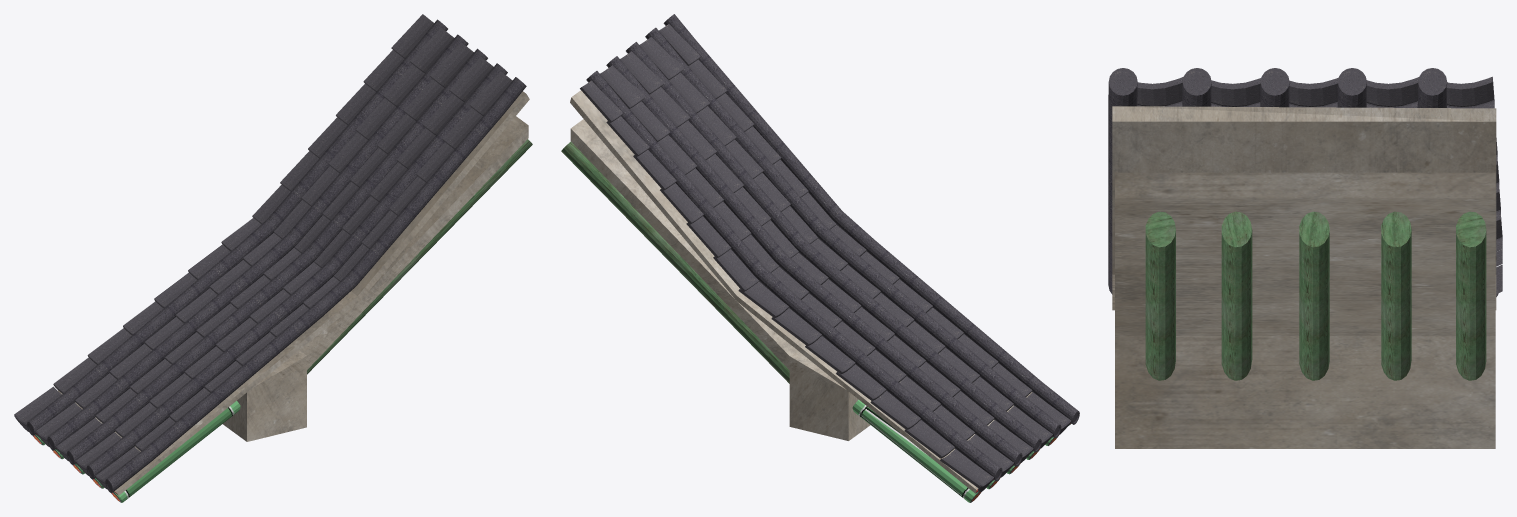
Rendered from SM_Roof_12.fbx.
The picture shows the model from 3 angles, left to right: view 1: azimuth 30°, elevation 25°; view 2: azimuth 150°, elevation 25°; view 3: azimuth 270°, elevation 25°; orthographic projection. The views are drawn at different scales.
Parts seen in each view (by area): view 1: SM_Roof_12; view 2: SM_Roof_12; view 3: SM_Roof_12.
Part boxes in pixels (x1,y1,x2,y2): SM_Roof_12: (14,14,532,502); SM_Roof_12: (561,14,1079,502); SM_Roof_12: (1108,68,1502,448).
Bounding box in the file's own units: 518 × 207 × 383.
5 materials, 5 textured.
